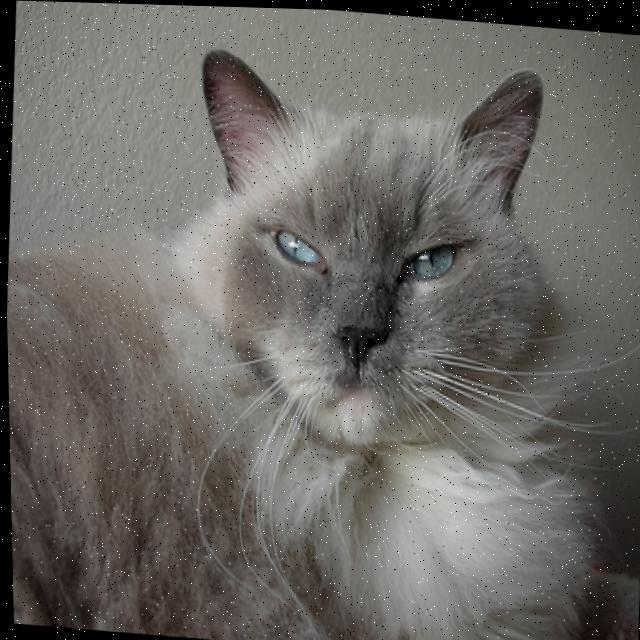Ragdoll: (0, 23, 631, 640)
